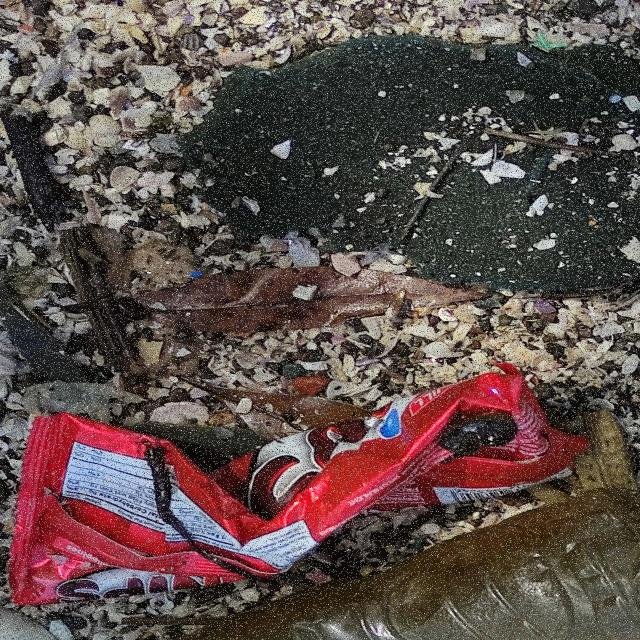plastic_waste: (8, 371, 595, 608)
